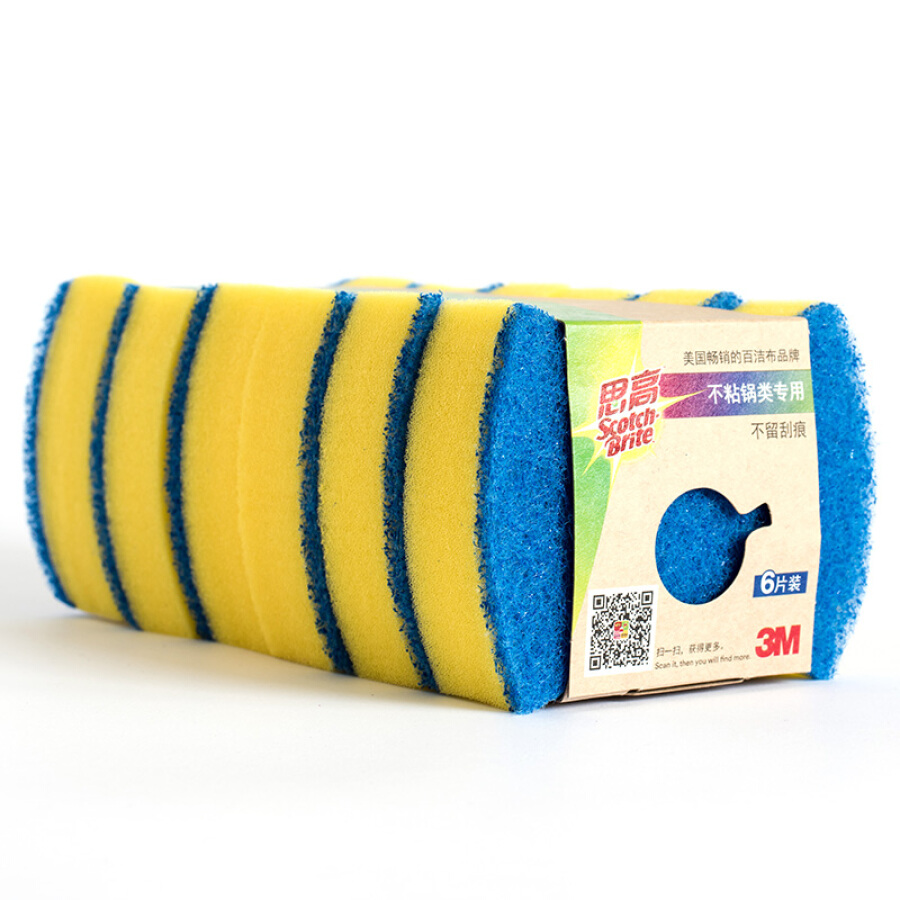3M: (753, 621, 803, 663)
